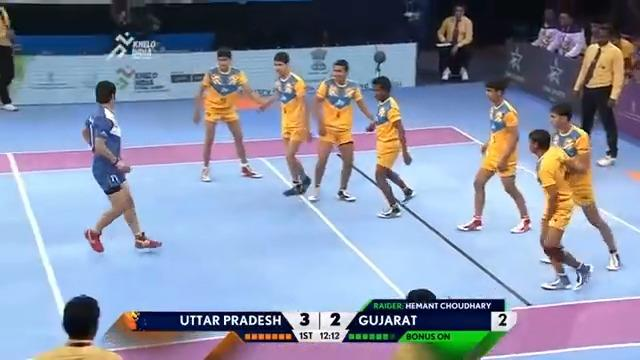Player: (543, 102, 621, 271), (456, 76, 532, 233), (527, 128, 593, 291), (192, 46, 266, 182), (307, 58, 376, 202), (257, 51, 311, 196), (365, 75, 415, 218), (30, 293, 123, 359)
Raider: (81, 79, 162, 252)
referee: (572, 21, 626, 166), (435, 3, 473, 81)
